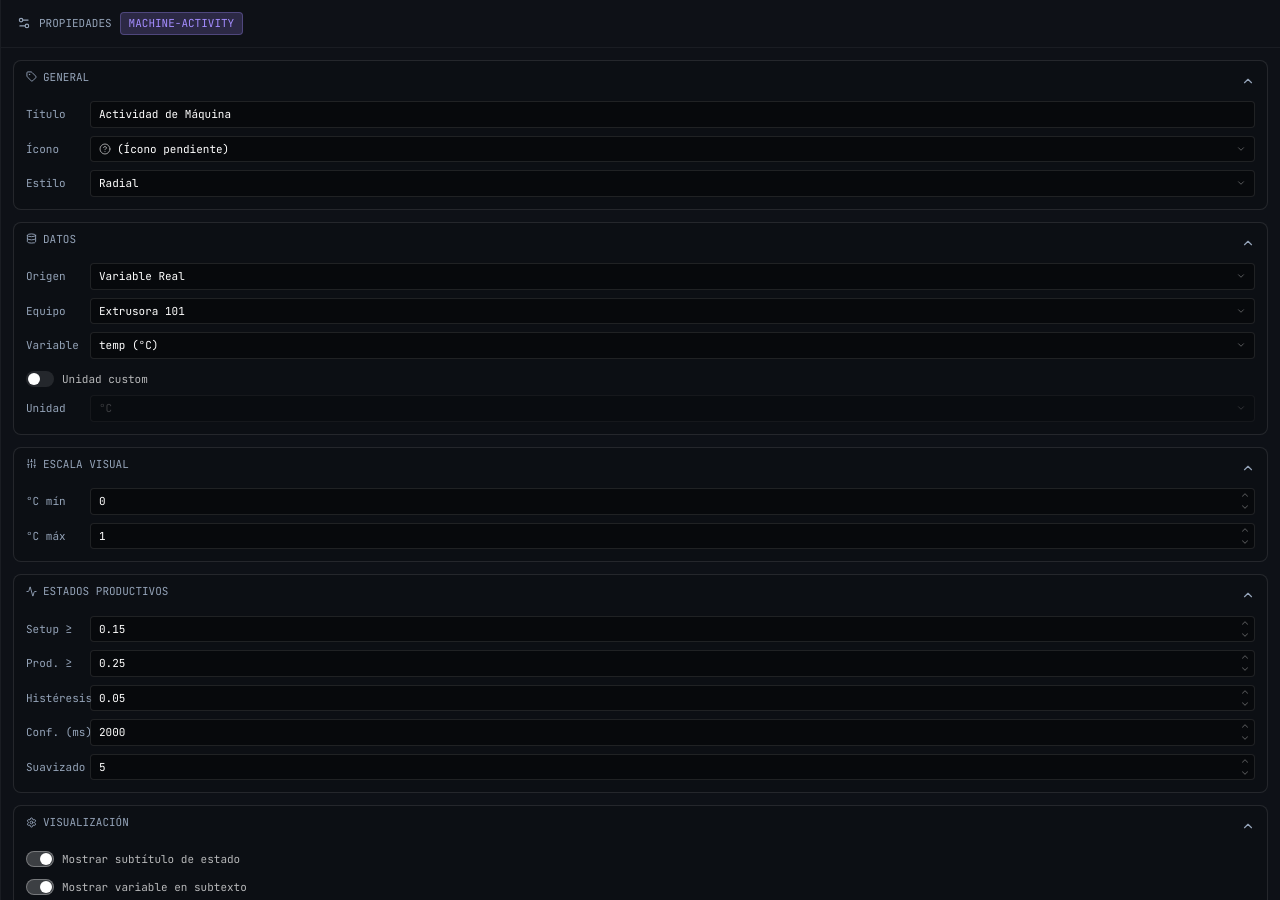
Test case: PropertyDock machine-activity › shows the custom unit toggle for real machine-activity bindings and enables editing only when active
expect the button "°C" is shown: met, box 90,395 -> 1255,422
expect the button "°C" is disabled: met, box 90,395 -> 1255,422
Click the checkbox labelled "Unidad custom".
click(87, 379)  # box 26,371 -> 148,387
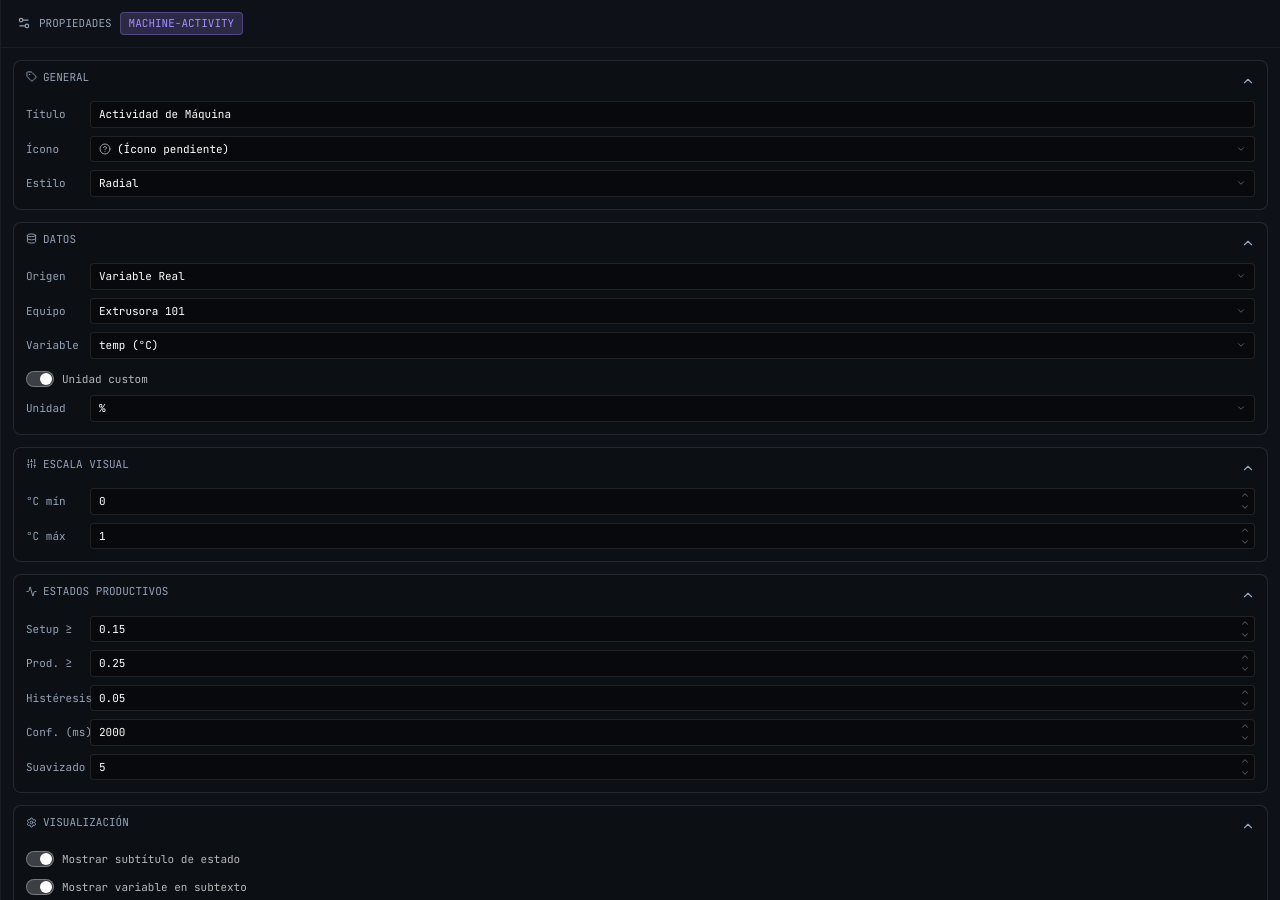
expect the button "%" is shown: met, box 90,395 -> 1255,422
expect the button "%" is enabled: met, box 90,395 -> 1255,422
